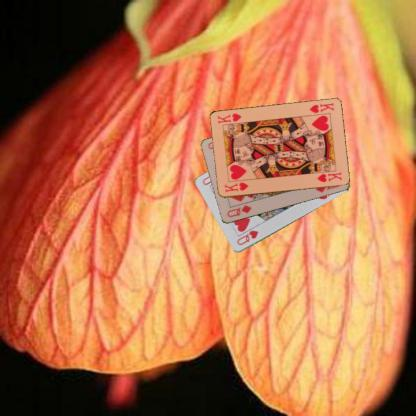Kh: (222, 180, 249, 194), (307, 100, 334, 114)
Qd: (224, 203, 253, 218)
Qh: (234, 228, 259, 247)
